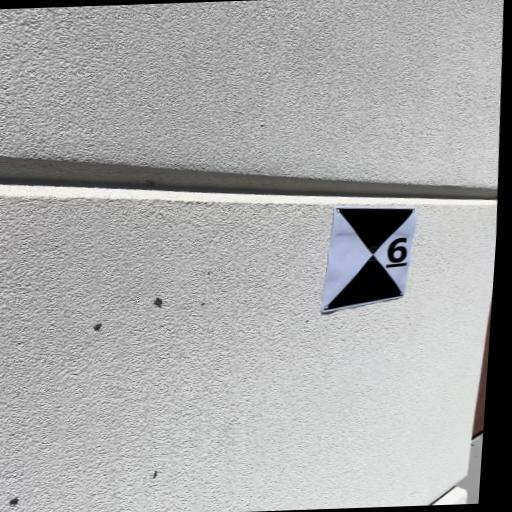target6: (321, 208, 416, 315)
